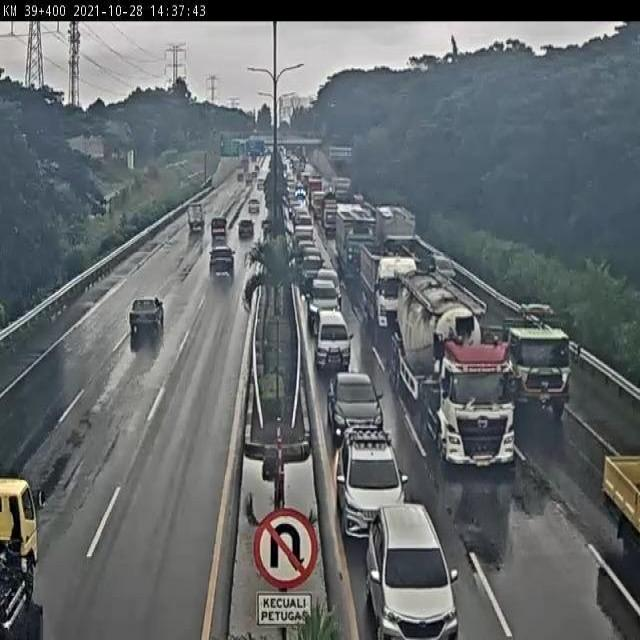big truck: (393, 268, 527, 472), (485, 295, 578, 416), (358, 240, 414, 329), (338, 200, 378, 265)
car: (362, 508, 464, 640), (331, 424, 408, 535), (326, 366, 384, 438), (313, 306, 353, 371), (429, 245, 462, 300), (303, 273, 345, 316), (131, 291, 167, 337), (205, 241, 236, 284), (236, 214, 261, 247), (298, 250, 327, 274), (208, 218, 230, 242)
small truck: (0, 472, 47, 633), (599, 436, 640, 545), (186, 205, 210, 232)
